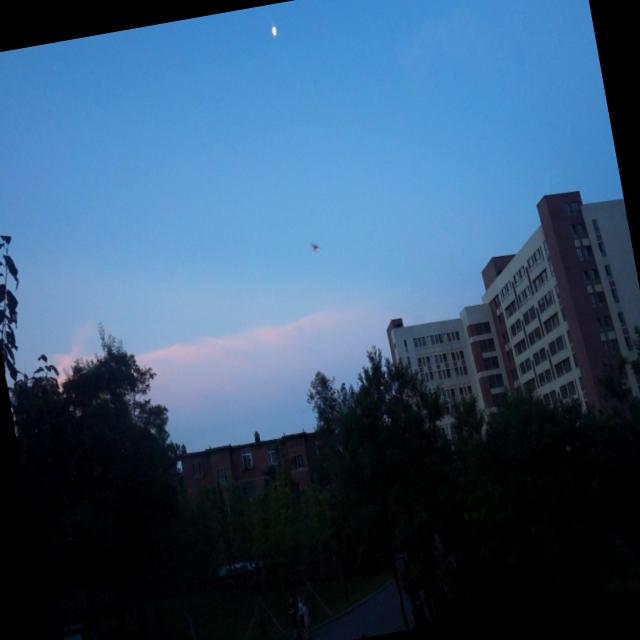drone: (308, 238, 320, 255)
